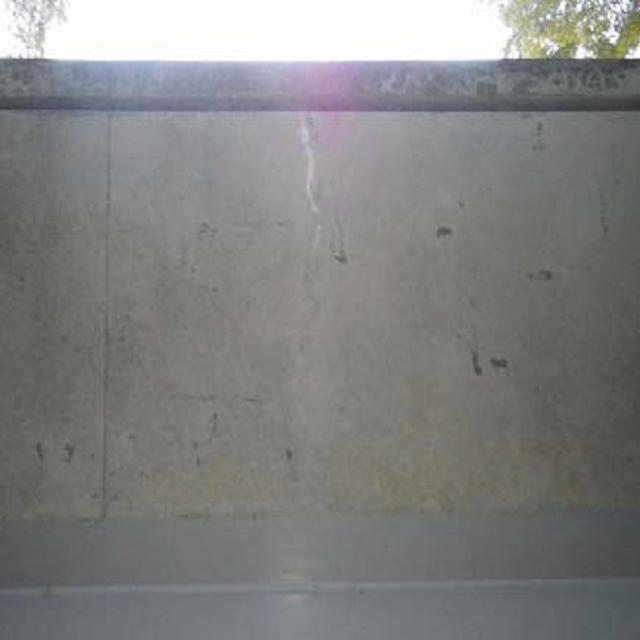crack: (289, 117, 334, 369)
